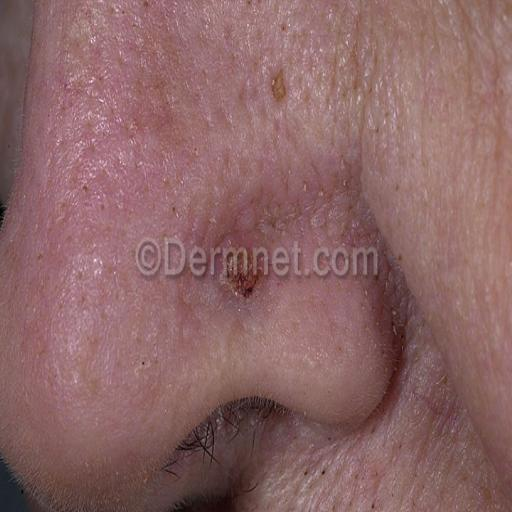Skin_Lesion: (255, 194, 357, 241), (64, 157, 114, 221), (224, 262, 262, 314), (112, 116, 153, 150), (95, 0, 124, 22), (271, 70, 289, 104)
